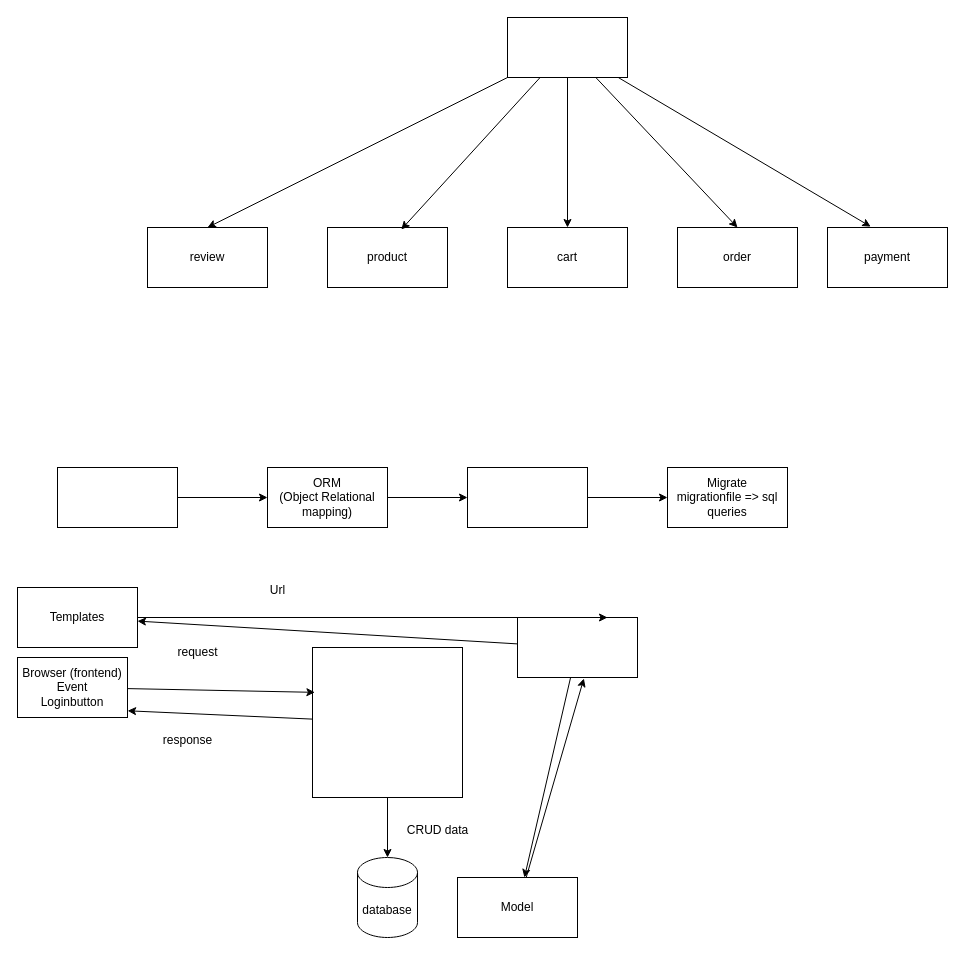
Some shapes in this 965 by 955 pixel diagram are drawn without their labels. The box of each missing label's shape, as (x1, y1, x2, y2) in pixels:
Ecommerce: (506, 16, 628, 78)
Migration file makemigrations: (466, 466, 588, 528)
Python code for models: (56, 466, 178, 528)
Server: (312, 646, 462, 798)
Views: (516, 616, 638, 678)
